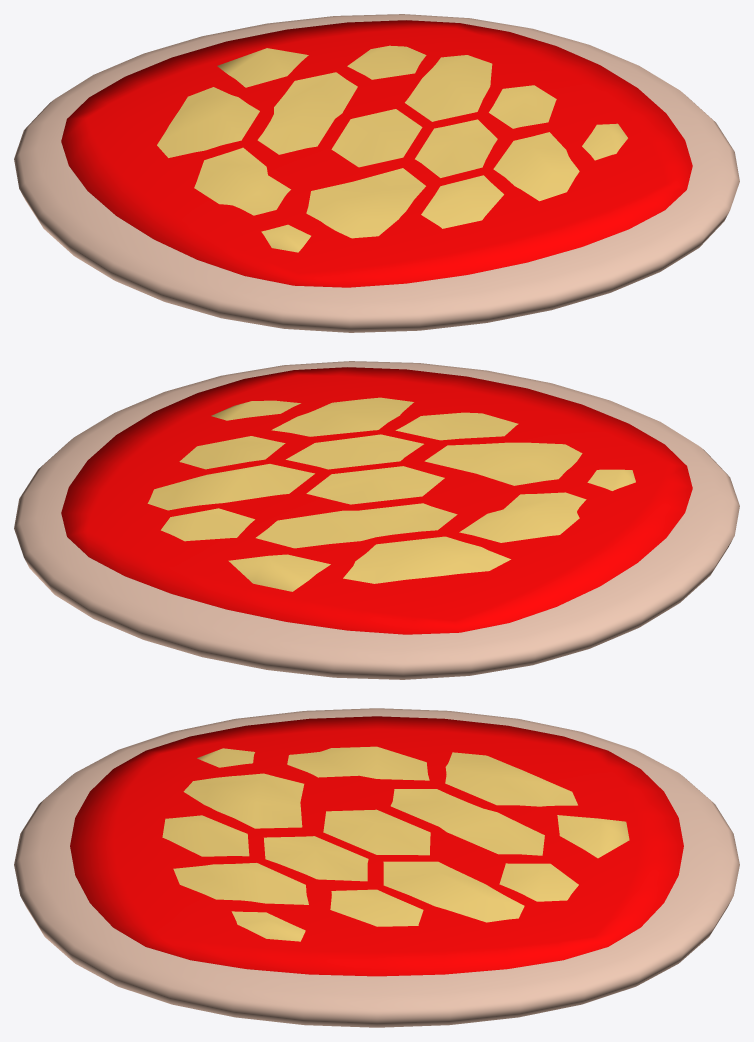
File: doughCheese BACKUP.fbx
3 views of the same model, one above another, from view 1: azimuth 30°, elevation 25°; view 2: azimuth 150°, elevation 25°; view 3: azimuth 270°, elevation 25° (orthographic).
Visible parts, largest first — view 1: Cube.002, Cube.001, Cube.003; view 2: Cube.002, Cube.001, Cube.003; view 3: Cube.002, Cube.001, Cube.003.
Boxes of the visible parts, box(x1,y1,x2,y2) form: Cube.002: box(61, 20, 692, 287); Cube.001: box(14, 14, 739, 332); Cube.003: box(157, 45, 627, 252); Cube.002: box(61, 367, 692, 634); Cube.001: box(14, 361, 739, 679); Cube.003: box(147, 397, 635, 591); Cube.002: box(70, 716, 683, 976); Cube.001: box(14, 708, 739, 1027); Cube.003: box(162, 746, 629, 941).
Bounding box in the file's own units: 168 × 14.35 × 168.
